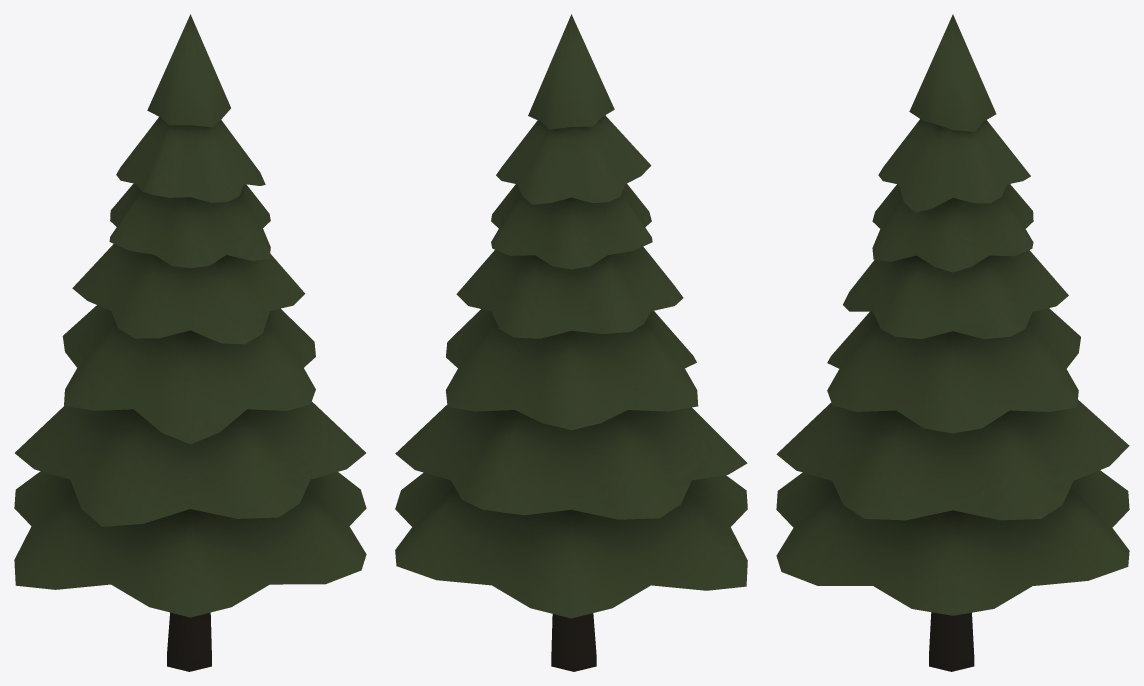
File: pine_n.glb
The picture shows the model from 3 angles, left to right: view 1: azimuth 30°, elevation 25°; view 2: azimuth 150°, elevation 25°; view 3: azimuth 270°, elevation 25°; orthographic projection.
Visible parts, largest first — view 1: Pine.006; view 2: Pine.006; view 3: Pine.006.
Part boxes in pixels (box(x1,y1,x2,y2)): Pine.006: box(14, 14, 366, 671); Pine.006: box(395, 14, 747, 671); Pine.006: box(776, 14, 1129, 671).
Size of the model in its own units: 11.17 by 19.99 by 9.88.
1 material, 1 textured.
